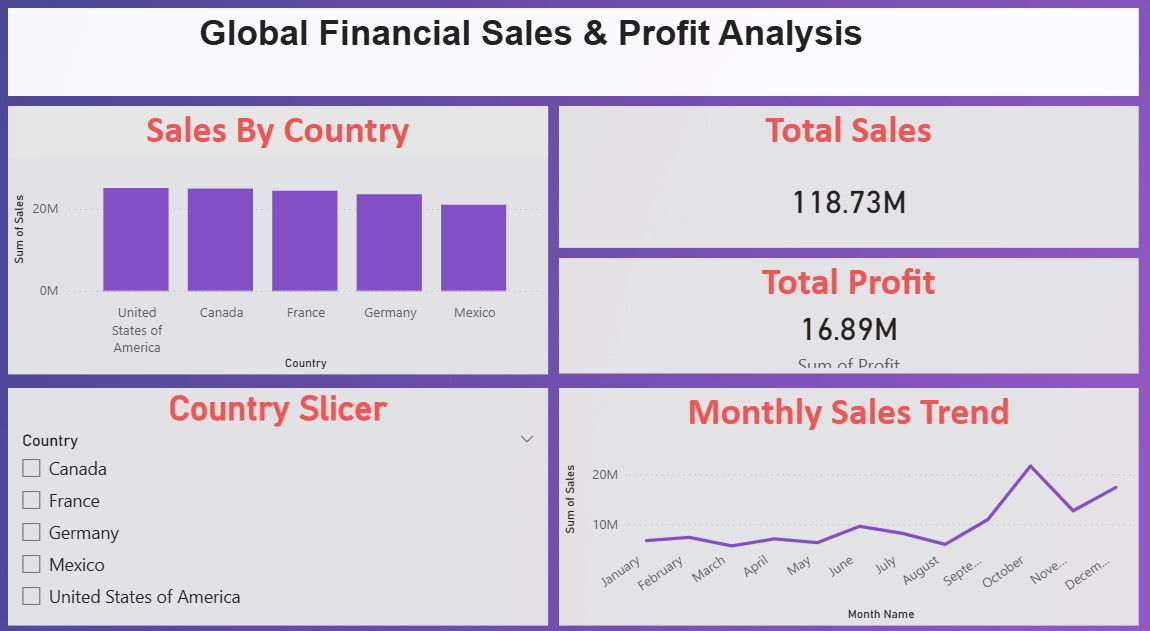

What the dashboard file says about the page in this screenshot:
{"tool":"powerbi","page":{"name":"Page 1","canvas":[1280,720],"ordinal":0},"visuals":[{"type":"clusteredColumnChart","title":"Sales By Country","fields":{"Y":["Sum(Fact.Sales)"],"Category":["Dim_country.Country"]},"box":[149.2,191.4,490.8,243.9],"z":0},{"type":"lineChart","title":"Monthly Sales Trend","fields":{"Category":["Dim_date.Month Name"],"Y":["Sum(Fact.Sales)"]},"box":[650.3,448.6,526.8,216.1],"z":1000},{"type":"card","title":"Total Sales","fields":{"Values":["Sum(Fact.Sales)"]},"box":[650.3,191.4,526.8,128.6],"z":2000},{"type":"card","title":"Total Profit","fields":{"Values":["Sum(Fact.Profit)"]},"box":[650.3,330.3,526.8,105],"z":3000},{"type":"slicer","title":"Country Slicer","fields":{"Values":["Fact.Country"]},"box":[149.2,448.6,490.8,216.1],"z":4000},{"type":"textbox","box":[149.2,103.1,1027.7,80.1],"z":4001}]}

Visuals, with their boxes in screenshot pixels (x1, y1, x2, y2), scaled from the page's 1280x720 canvas onto the 1150x631 screenshot:
"Sales By Country" clusteredColumnChart: [134, 168, 575, 381]
"Monthly Sales Trend" lineChart: [584, 393, 1058, 583]
"Total Sales" card: [584, 168, 1058, 280]
"Total Profit" card: [584, 289, 1058, 381]
"Country Slicer" slicer: [134, 393, 575, 583]
textbox: [134, 90, 1057, 161]
